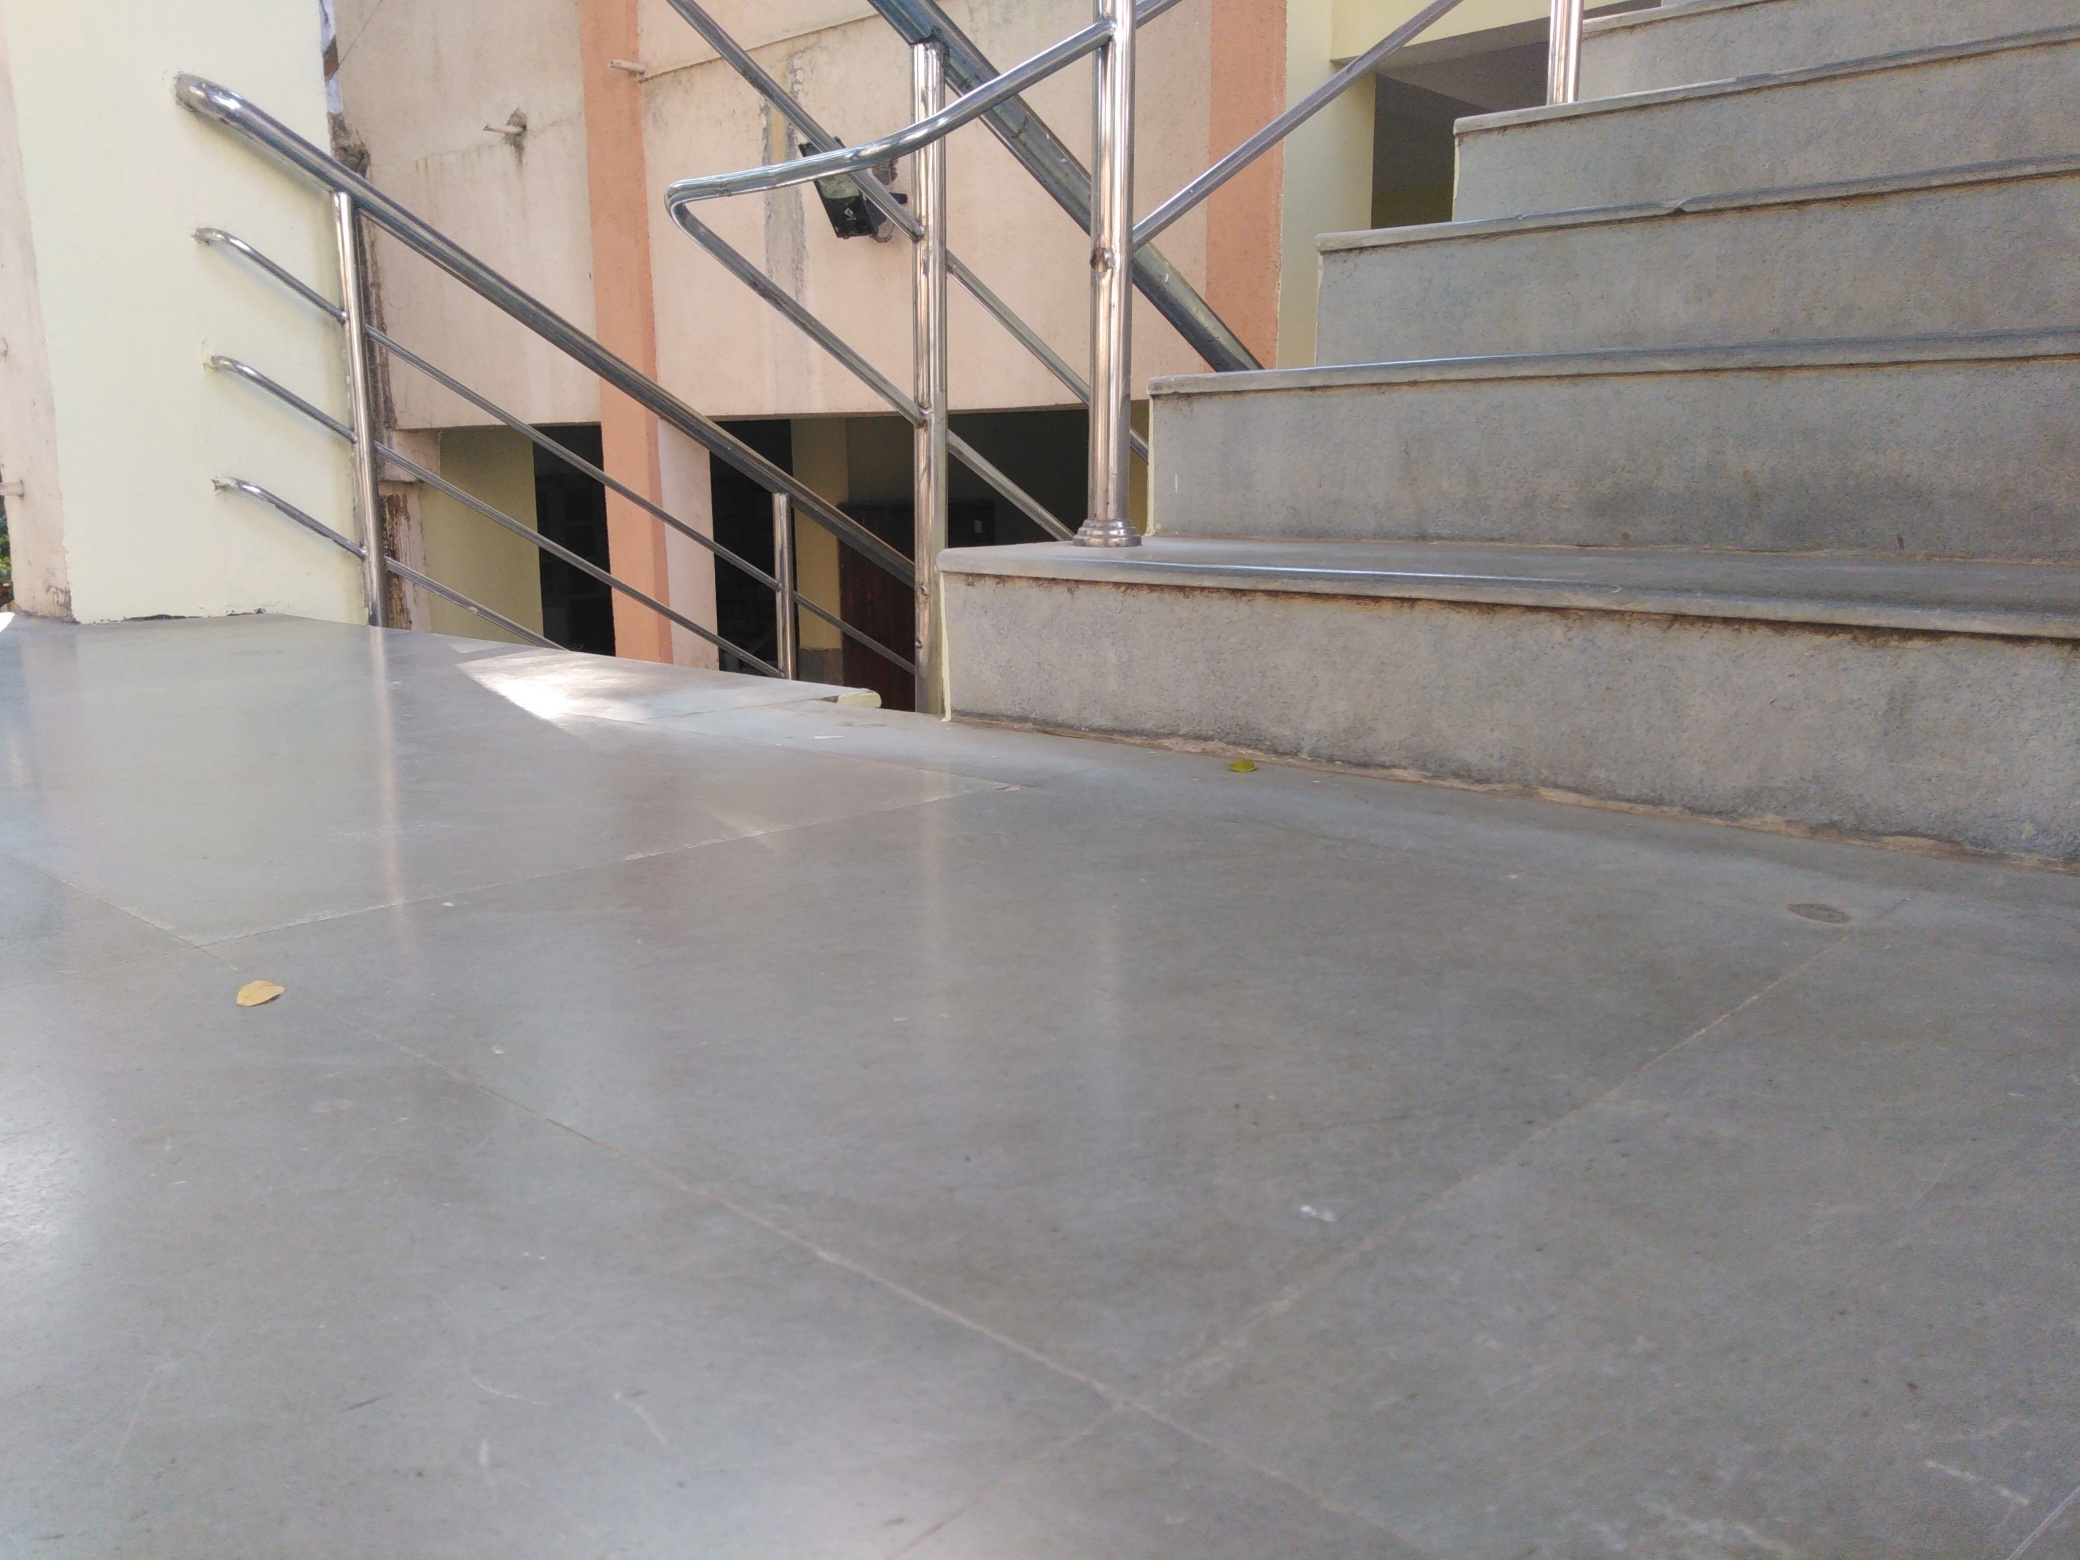stairs_up: (922, 11, 2075, 824)
